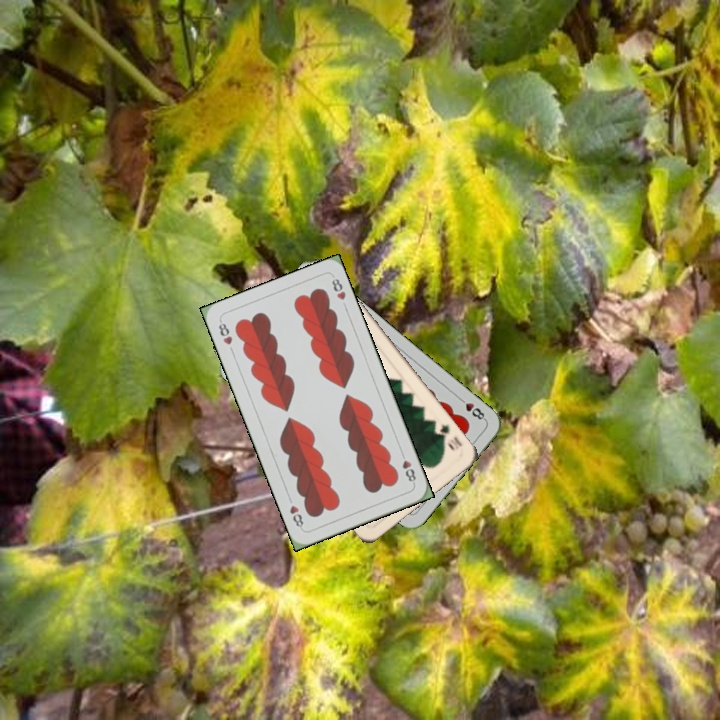G10: (435, 420, 465, 453)
H8: (454, 393, 488, 423), (397, 448, 419, 487), (214, 316, 235, 348)
